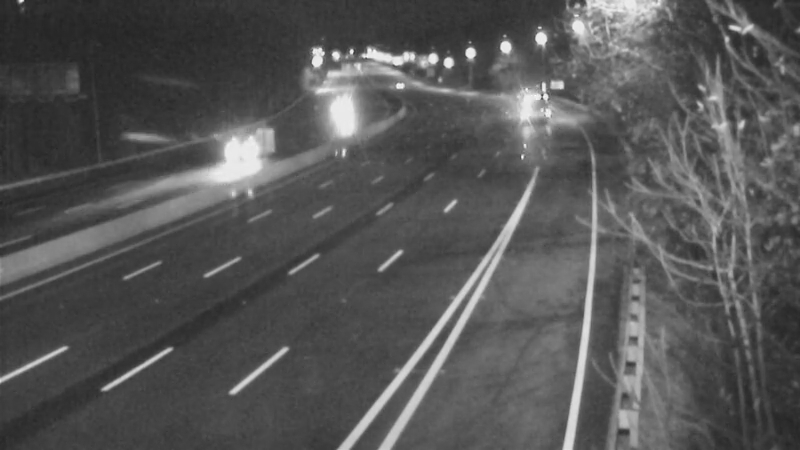vehicle: (198, 115, 278, 195), (374, 60, 424, 110), (498, 75, 548, 125), (316, 85, 366, 135)
